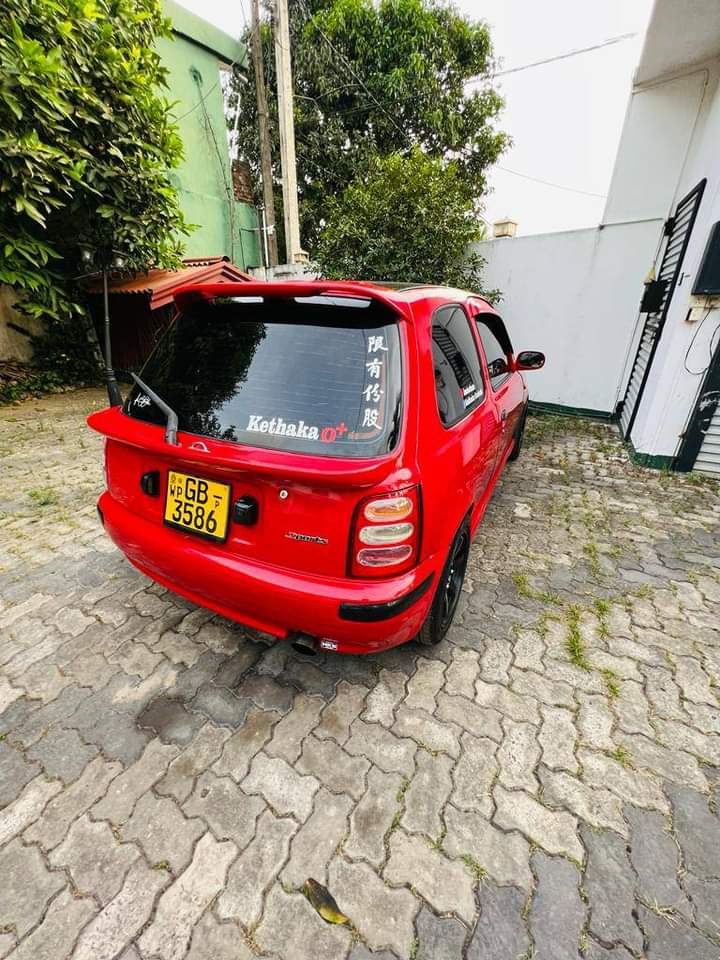number_plate: (164, 474, 234, 541)
